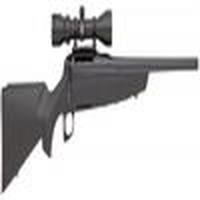gun: (2, 10, 200, 187)
